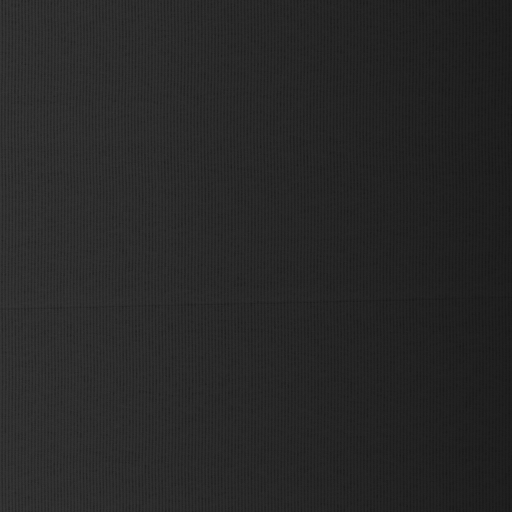defect: (1, 293, 512, 314)
